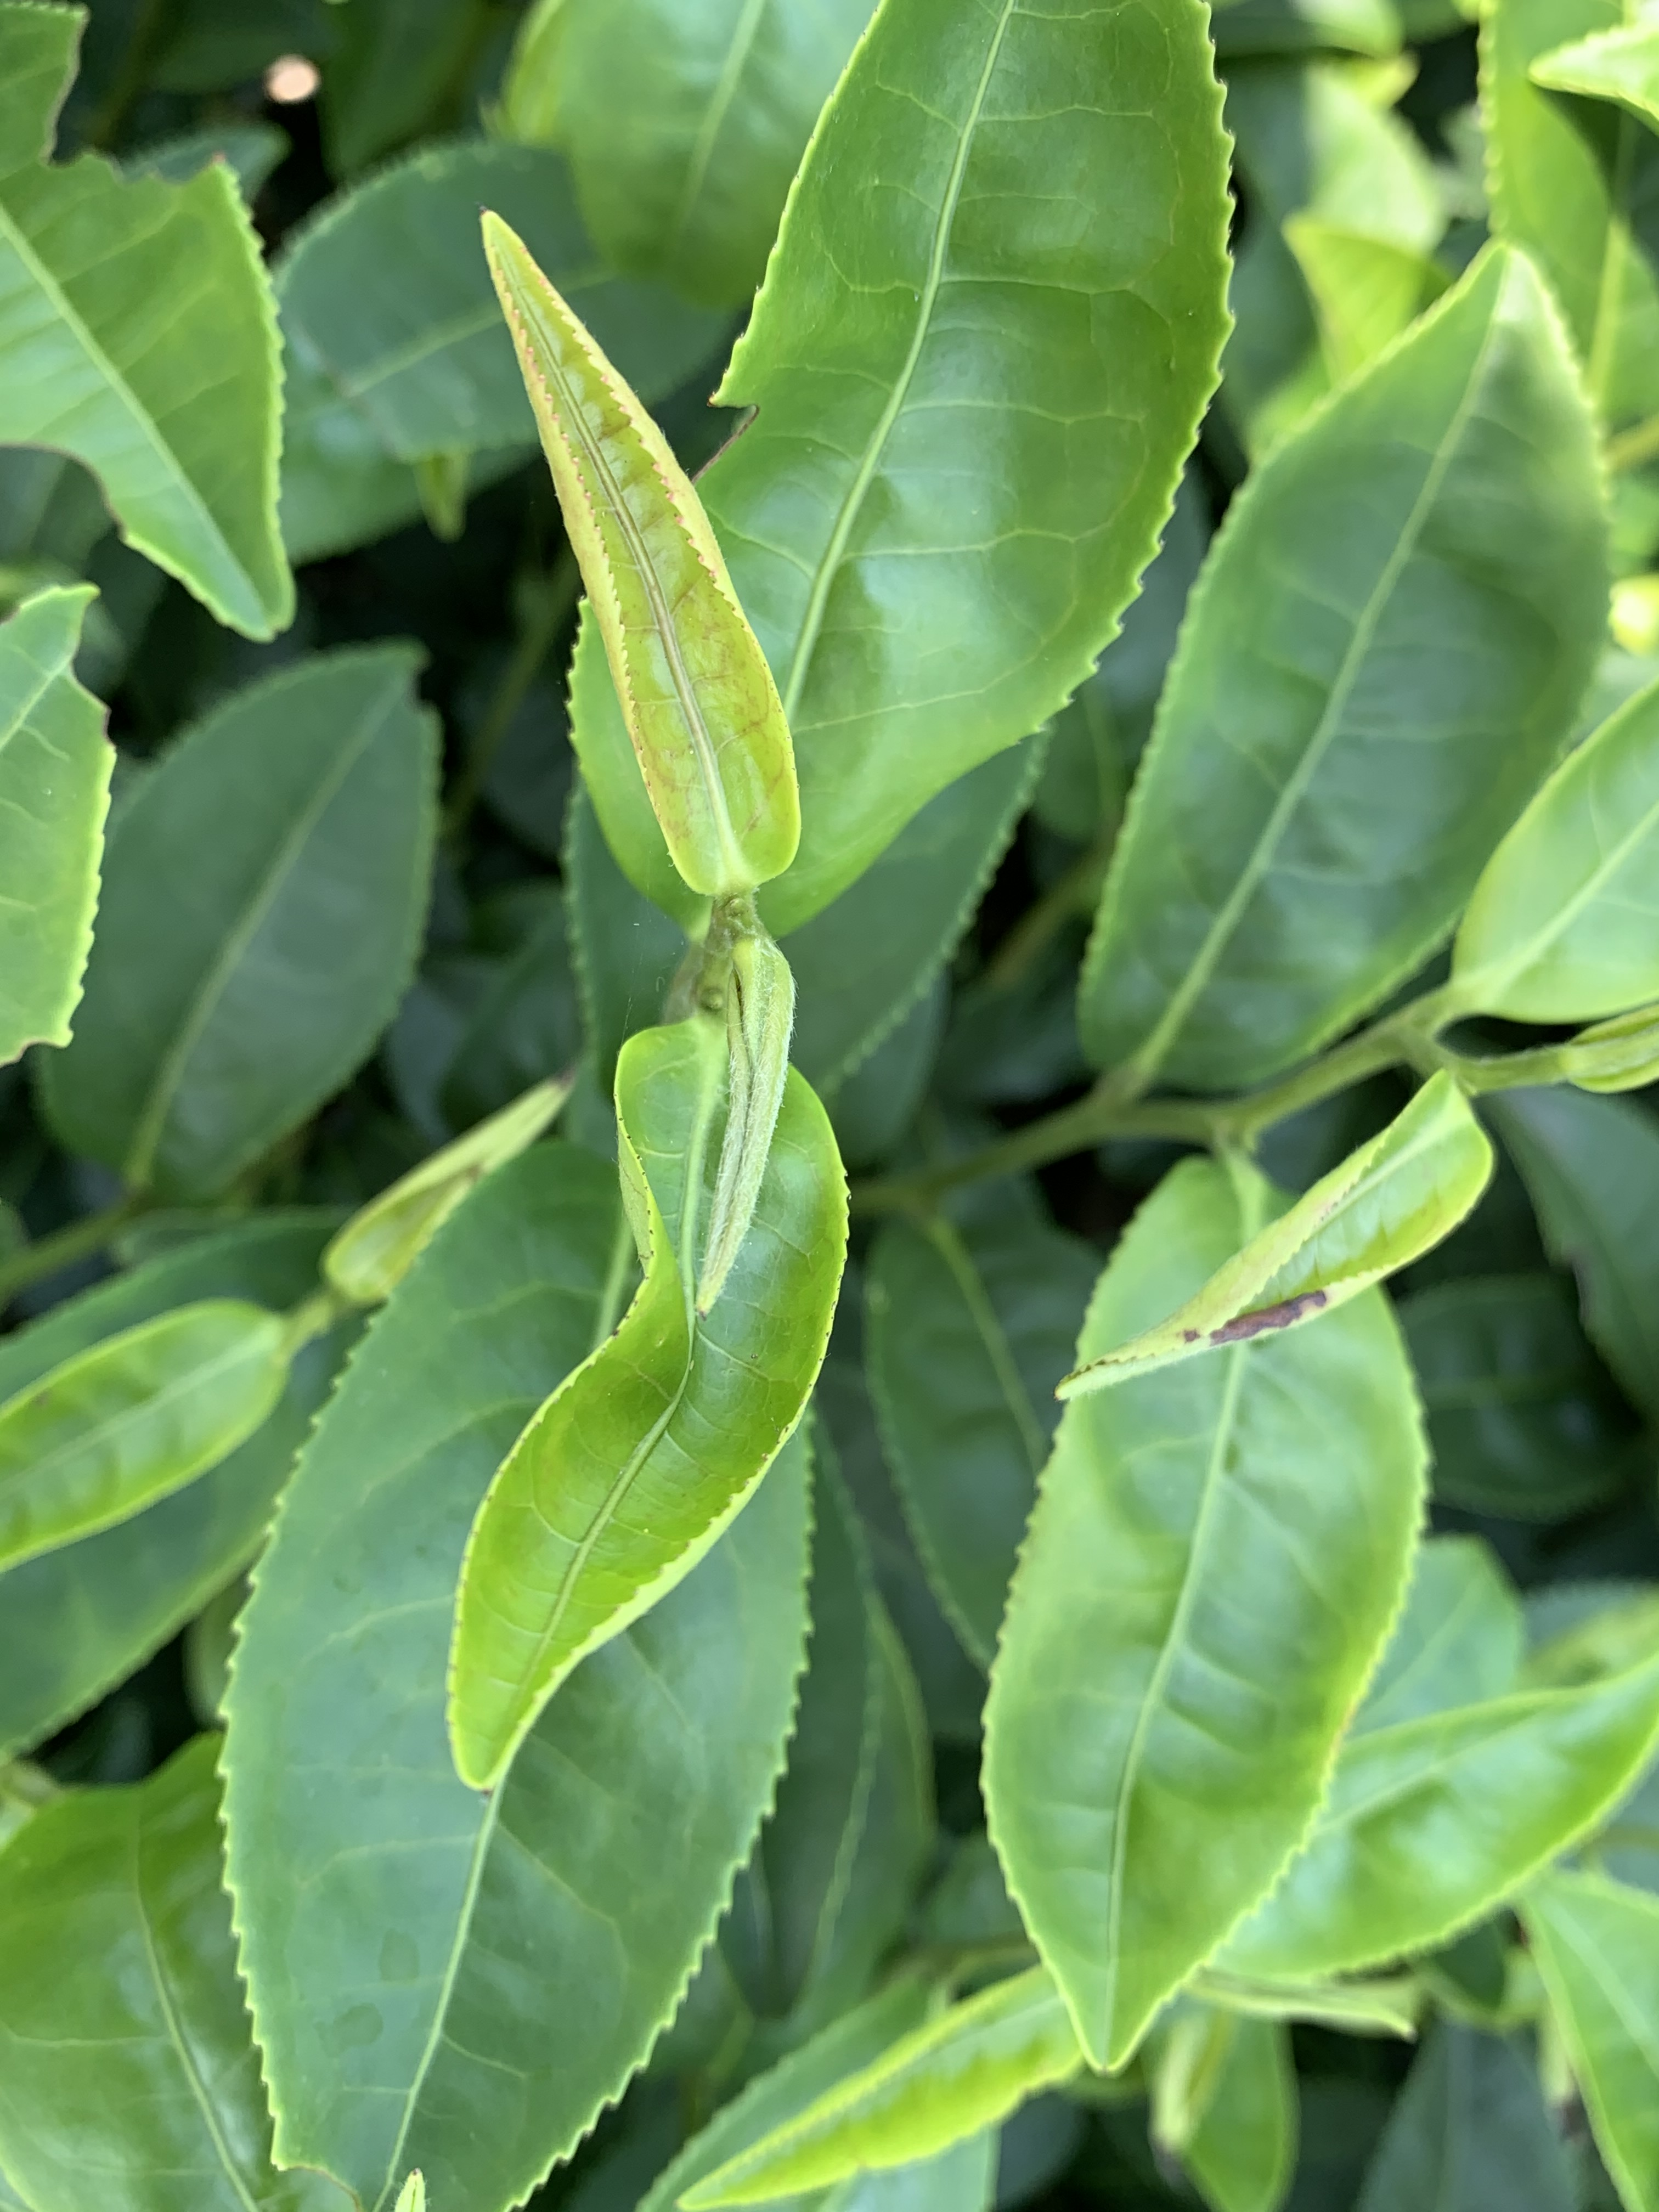formosa: (479, 209, 803, 909)
mosquito_early: (1086, 1075, 1520, 1379)
other: (261, 47, 338, 179)
